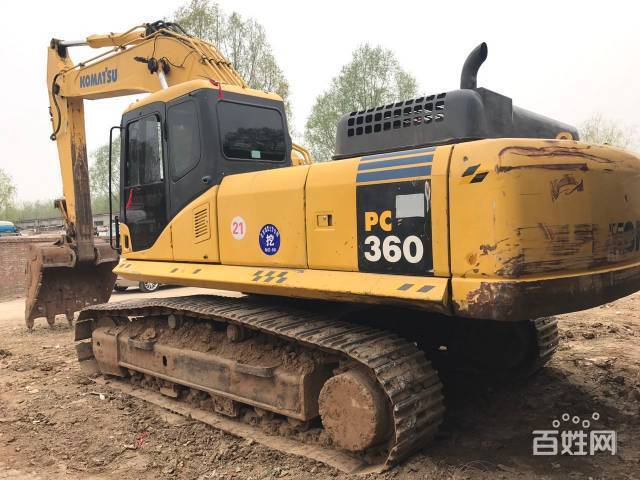excavator: (17, 15, 640, 480)
